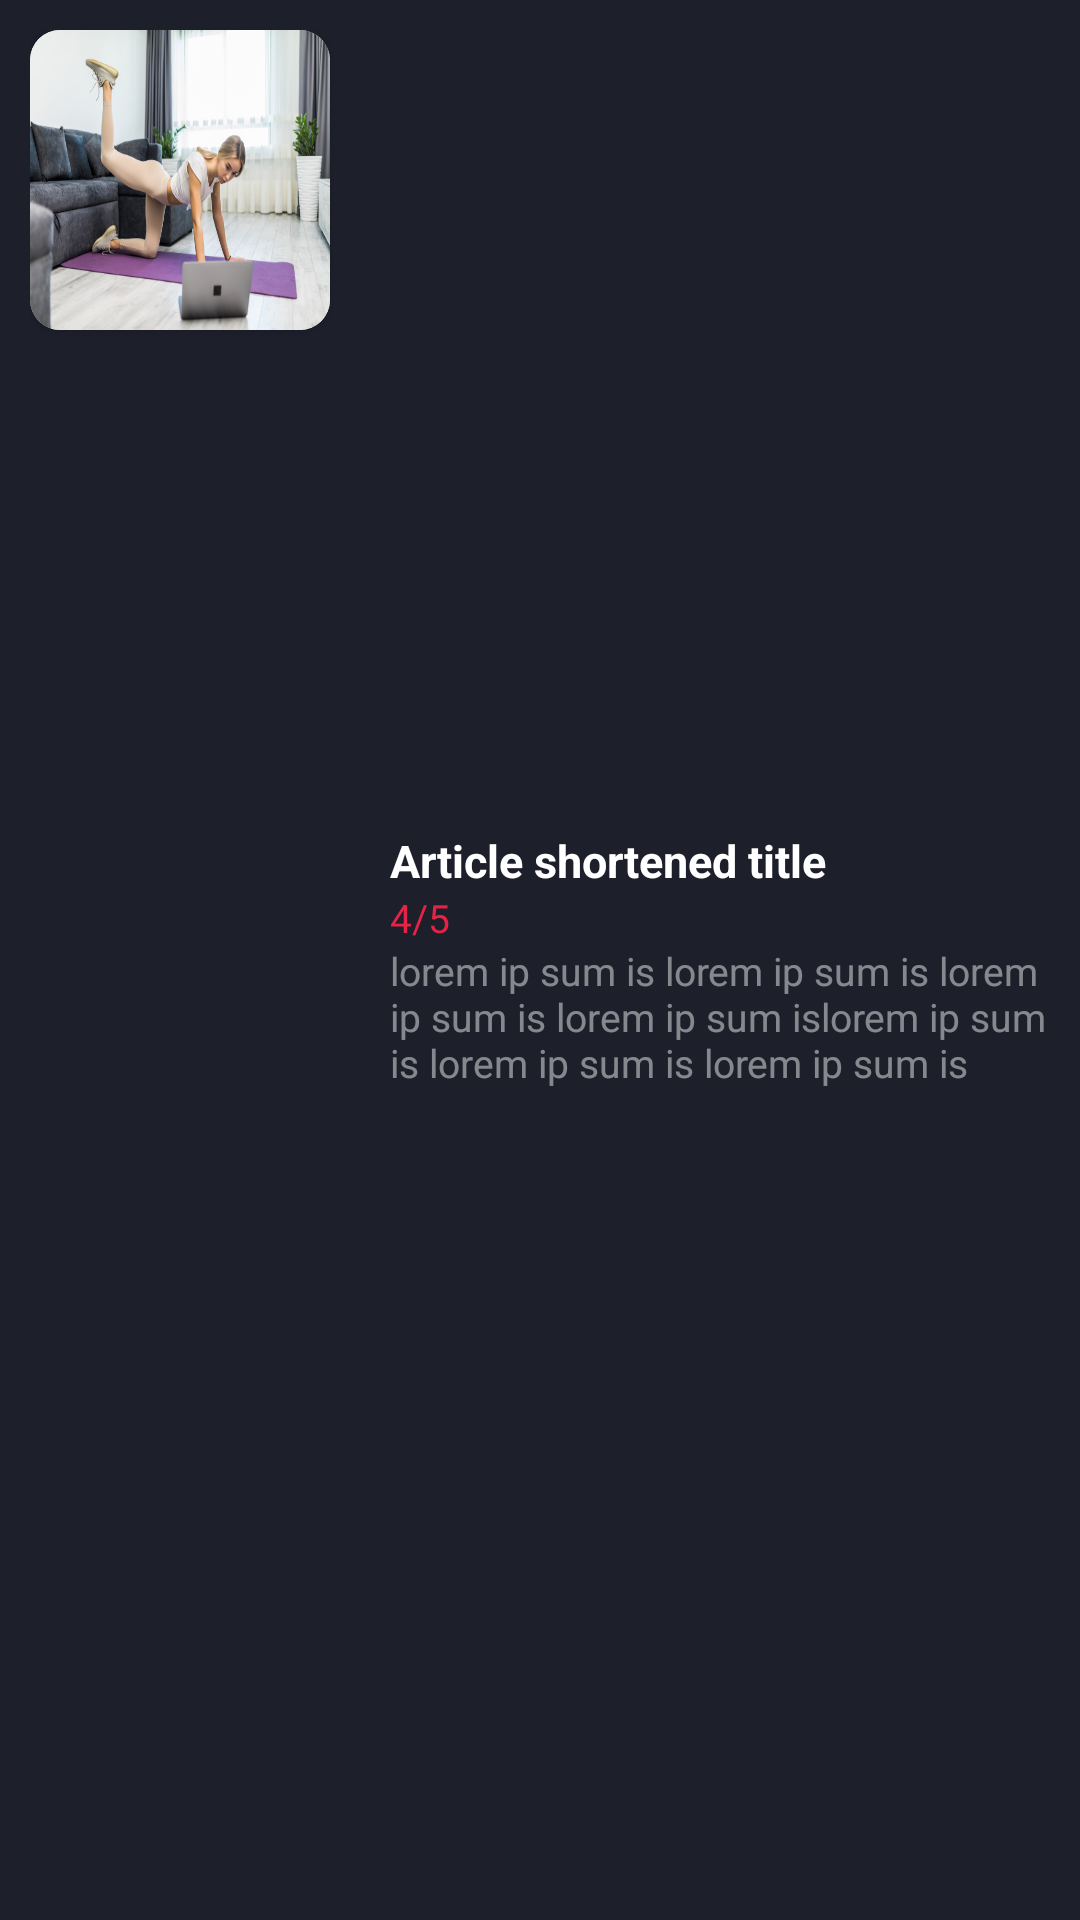

Icon click points for this 1080*1920 phone screenshot, format [x,y]:
workout card: [180,180]
